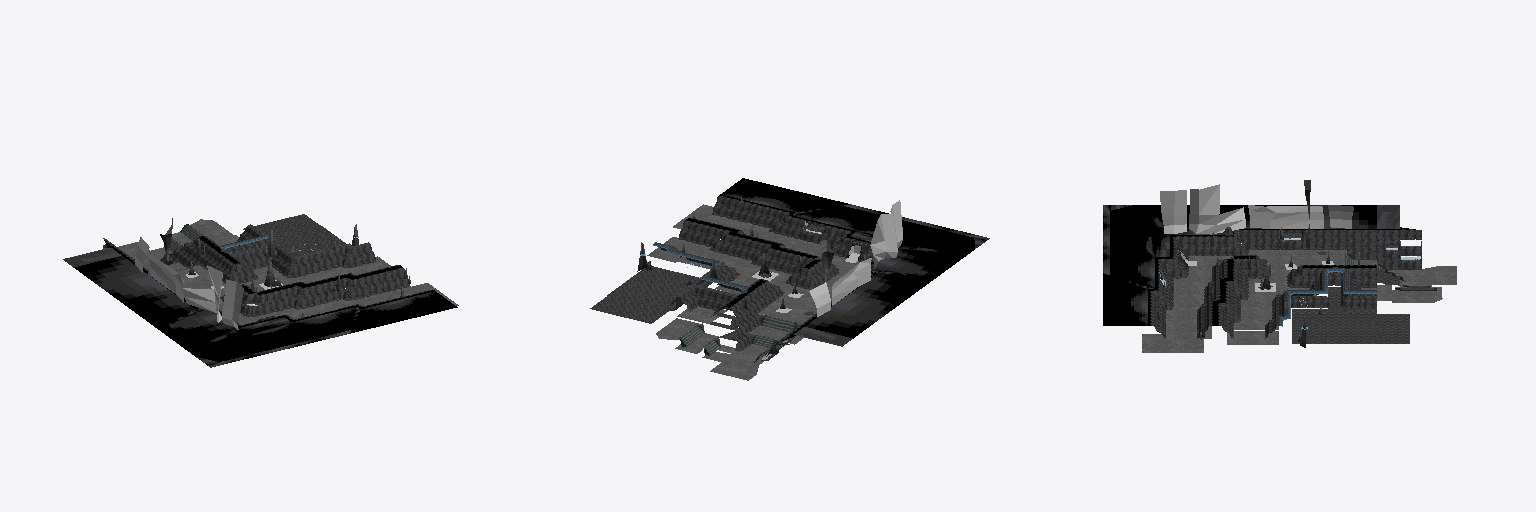
3 views of the same model, side by side, from view 1: azimuth 30°, elevation 25°; view 2: azimuth 150°, elevation 25°; view 3: azimuth 270°, elevation 25° (orthographic).
Parts seen in each view (by area): view 1: polygon4, polygon7, polygon26, polygon9, polygon0, polygon6, polygon15, polygon8, polygon27; view 2: polygon4, polygon26, polygon7, polygon0, polygon9, polygon6, polygon8, polygon15, polygon1, polygon27; view 3: polygon4, polygon26, polygon7, polygon9, polygon0, polygon6, polygon8, polygon15, polygon27.
Boxes of the visible parts, x1=… form: polygon4: x1=74, y1=236, x2=457, y2=367; polygon7: x1=103, y1=227, x2=408, y2=313; polygon26: x1=118, y1=219, x2=458, y2=324; polygon9: x1=135, y1=237, x2=243, y2=329; polygon0: x1=169, y1=214, x2=354, y2=299; polygon6: x1=103, y1=233, x2=429, y2=325; polygon15: x1=160, y1=218, x2=410, y2=317; polygon8: x1=160, y1=239, x2=409, y2=316; polygon27: x1=63, y1=225, x2=370, y2=267; polygon4: x1=685, y1=178, x2=989, y2=341; polygon26: x1=647, y1=204, x2=859, y2=380; polygon7: x1=660, y1=198, x2=872, y2=361; polygon0: x1=590, y1=222, x2=840, y2=360; polygon9: x1=803, y1=200, x2=902, y2=316; polygon6: x1=673, y1=196, x2=872, y2=357; polygon8: x1=663, y1=212, x2=873, y2=362; polygon15: x1=637, y1=197, x2=865, y2=310; polygon1: x1=679, y1=315, x2=796, y2=355; polygon27: x1=655, y1=242, x2=852, y2=346; polygon4: x1=1103, y1=205, x2=1415, y2=325; polygon26: x1=1142, y1=249, x2=1456, y2=352; polygon7: x1=1154, y1=232, x2=1421, y2=336; polygon9: x1=1159, y1=184, x2=1353, y2=277; polygon0: x1=1159, y1=233, x2=1409, y2=343; polygon6: x1=1152, y1=230, x2=1421, y2=332; polygon8: x1=1159, y1=228, x2=1421, y2=338; polygon15: x1=1157, y1=180, x2=1359, y2=347; polygon27: x1=1276, y1=205, x2=1406, y2=326.
Size of the model in its own units: 10.29 by 3.18 by 11.77.
Materials: 28 (25 with a texture image).